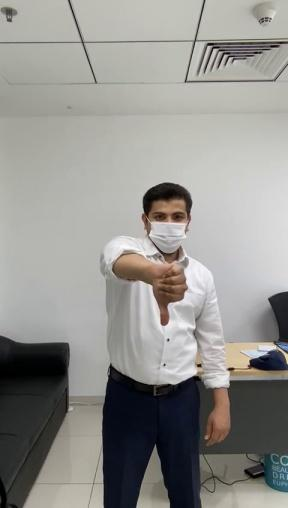thumbs-down: (148, 259, 187, 325)
